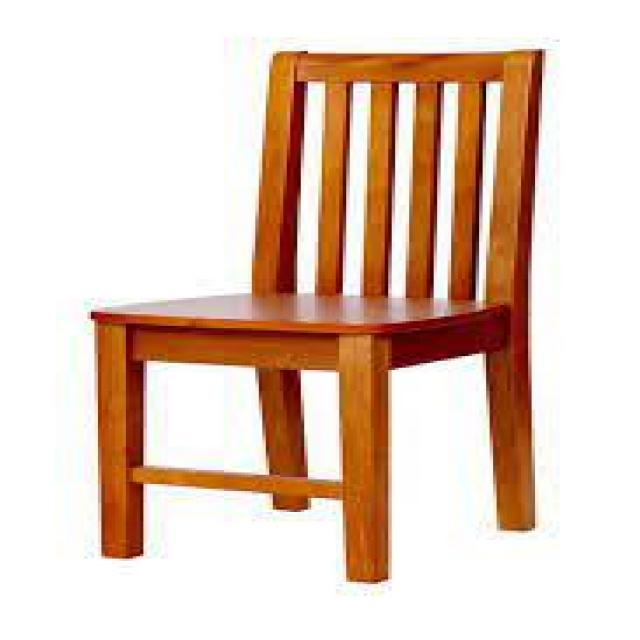chair: (72, 28, 568, 596)
